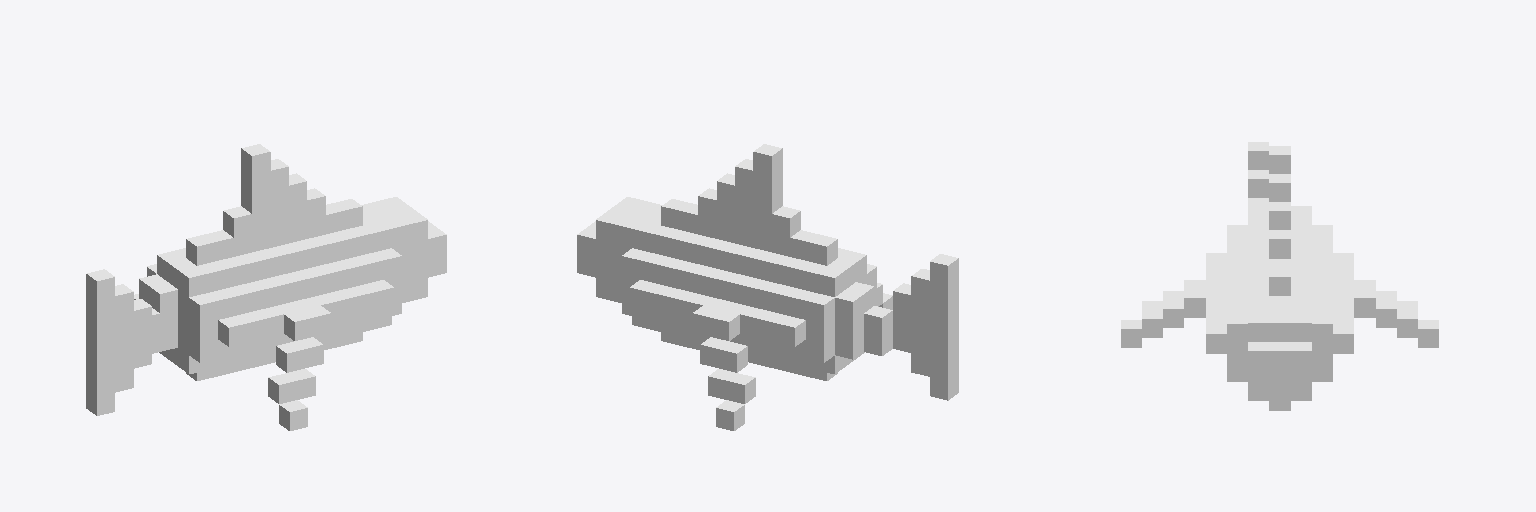
The model's file is tibu5vox.obj.
3 renders of one model, left to right at view 1: azimuth 30°, elevation 25°; view 2: azimuth 150°, elevation 25°; view 3: azimuth 270°, elevation 25°, orthographic.
Parts seen in each view (by area): view 1: object 1; view 2: object 1; view 3: object 1.
Boxes of the visible parts, <box> form: object 1: <box>86,144,446,430</box>; object 1: <box>577,144,958,430</box>; object 1: <box>1121,142,1438,410</box>.
Size of the model in its own units: 1.9 by 1.1 by 1.5.